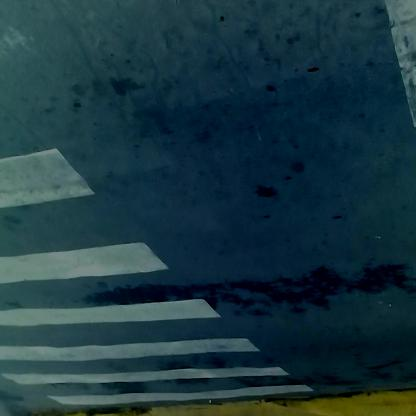crosswalk: (10, 149, 314, 412)
